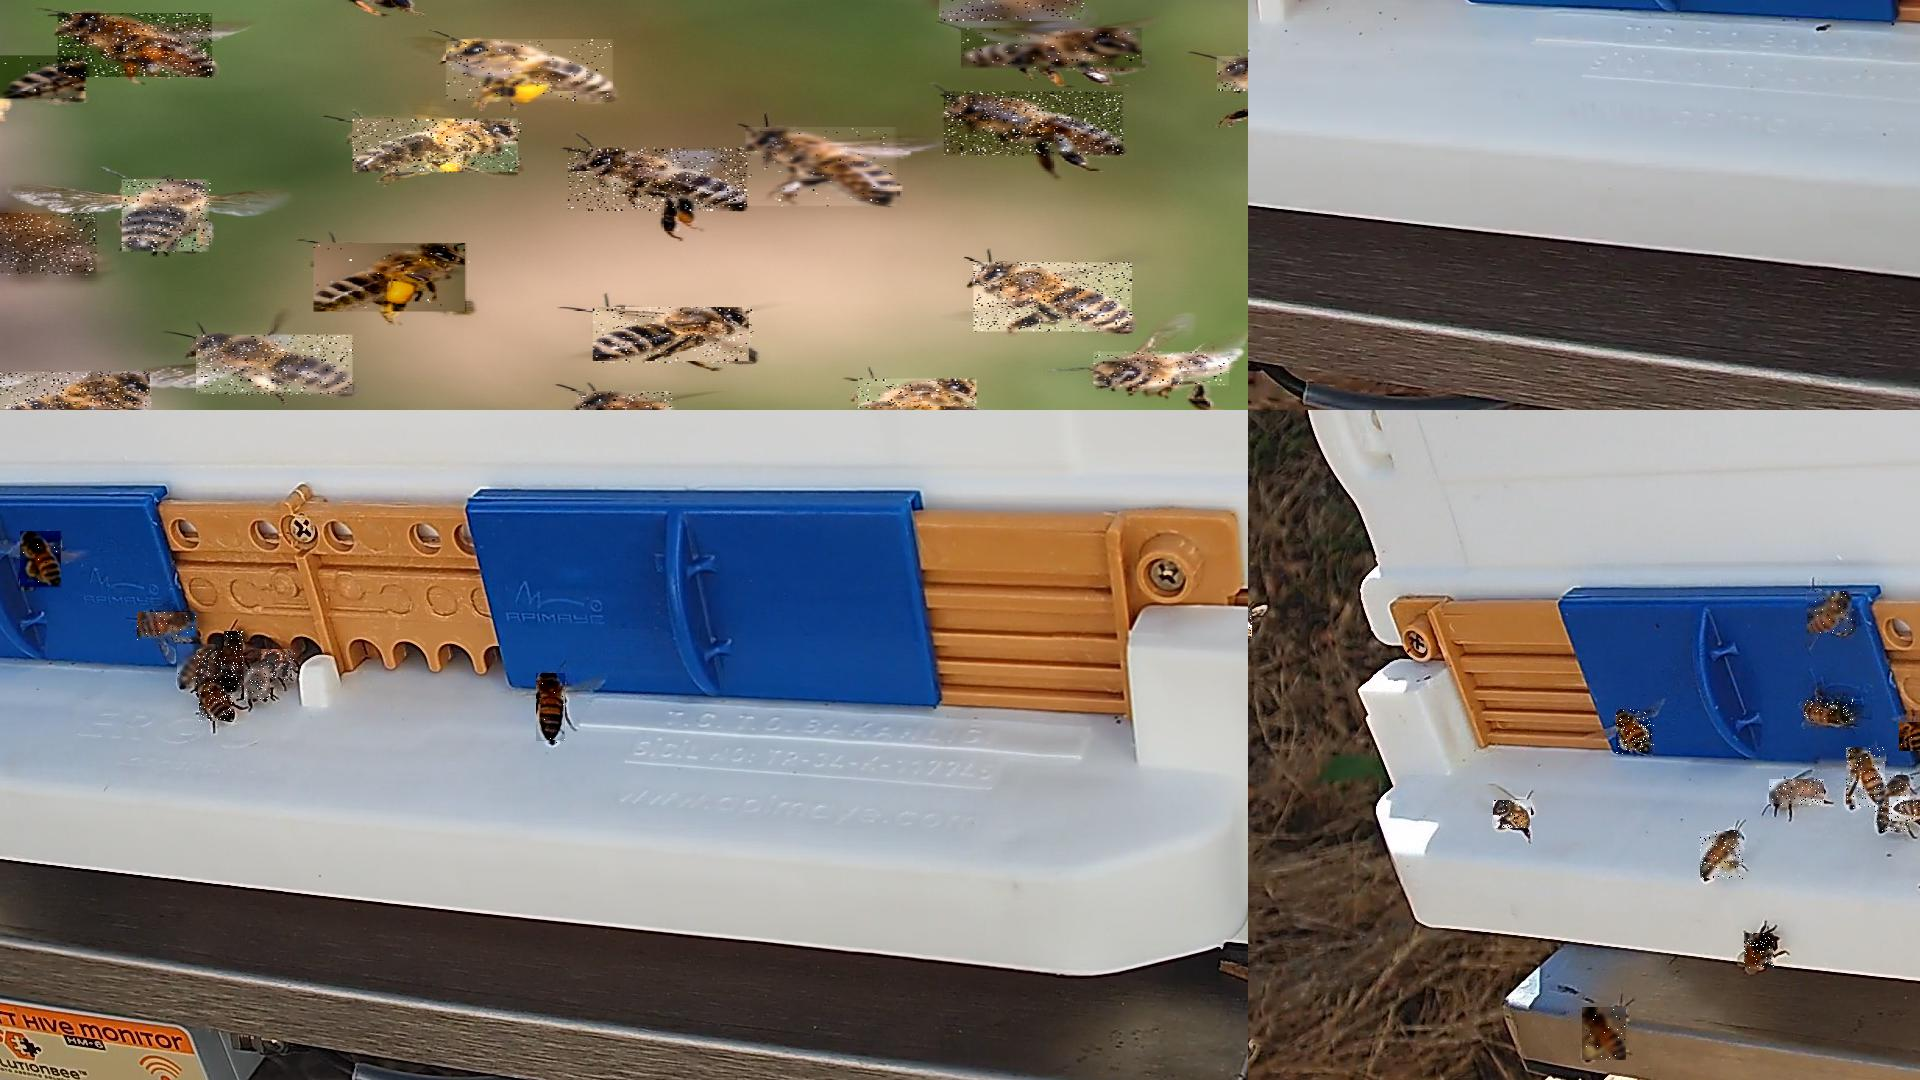bee: (748, 127, 902, 207), (944, 92, 1126, 156), (568, 148, 749, 211), (973, 262, 1133, 332), (595, 307, 757, 364), (961, 28, 1143, 71), (123, 179, 214, 252), (0, 214, 99, 276), (0, 372, 153, 409), (1093, 352, 1232, 388), (0, 55, 88, 102), (858, 378, 978, 409), (939, 0, 1085, 21), (1846, 748, 1886, 810), (537, 674, 566, 745), (1807, 591, 1853, 634), (576, 390, 674, 409), (138, 613, 200, 642), (177, 645, 218, 688), (1770, 779, 1825, 807), (200, 680, 235, 723), (196, 651, 227, 696), (1804, 699, 1855, 724), (224, 632, 244, 691), (1745, 934, 1776, 971), (1493, 800, 1532, 829), (262, 650, 297, 682), (1217, 57, 1246, 92), (244, 670, 272, 702), (1888, 799, 1919, 823), (1899, 723, 1919, 753)
pollenbee: (315, 243, 473, 313), (446, 40, 615, 103), (58, 13, 214, 78), (195, 335, 353, 396), (353, 119, 524, 173), (20, 531, 62, 591), (1582, 1007, 1627, 1062), (1701, 832, 1745, 881), (1875, 775, 1911, 833), (1617, 709, 1656, 756)
